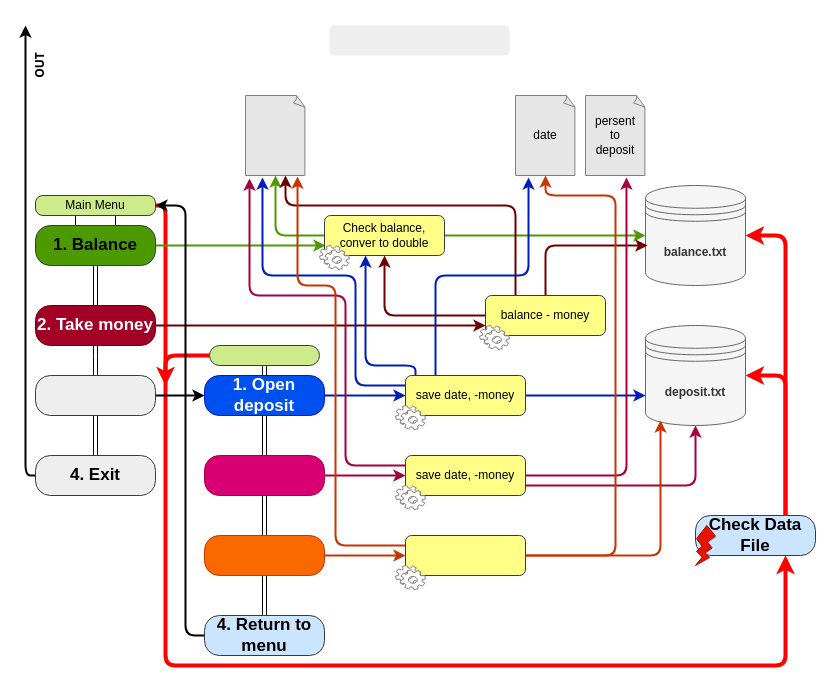
Image size: 833x692. Some labels were removed from this diagram. Here are the shapes that lost their labels. From the top down, the box of each, then its label:
(329, 25, 509, 55): Bank on C#
(244, 94, 306, 176): balance
(208, 344, 320, 366): Deposit menu
(34, 374, 156, 416): 3. Deposit
(204, 454, 324, 496): 2. Close deposit
(204, 534, 324, 576): 3. Check deposit
(404, 534, 526, 576): check persent, view date
